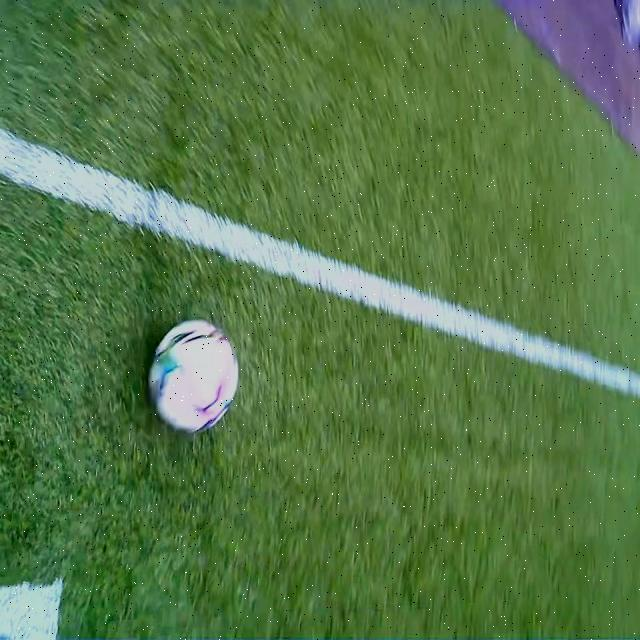ball: (149, 317, 238, 432)
